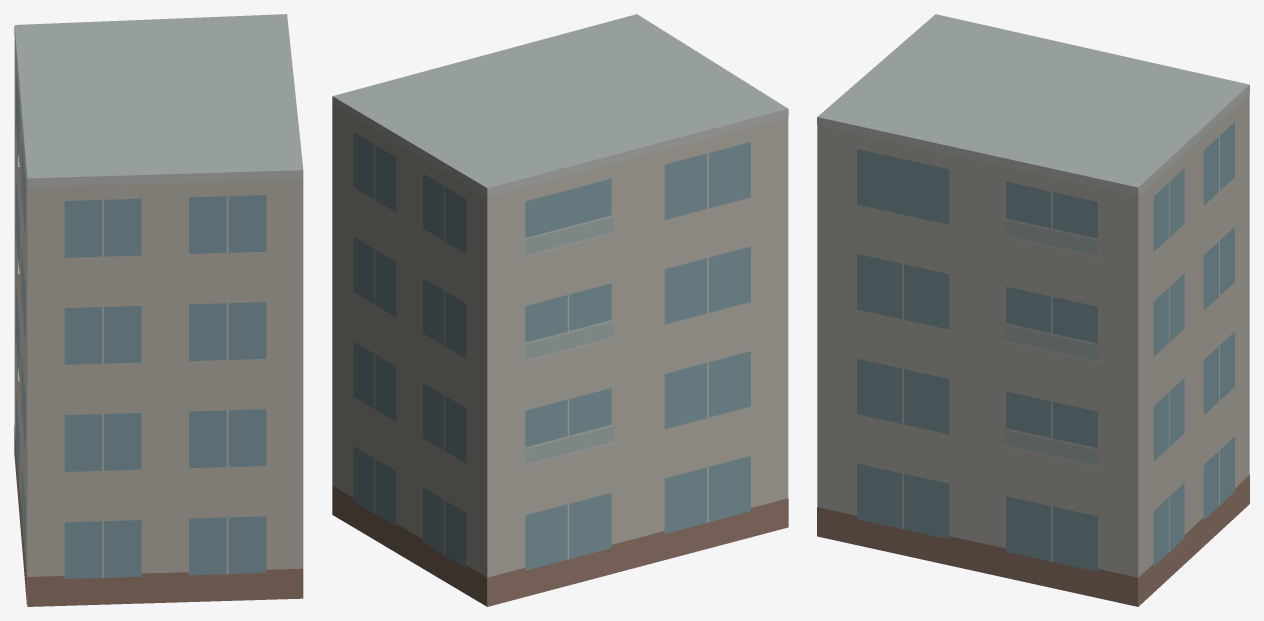
The model's file is survey-upis-32799399.glb.
3 views of the same model, side by side, from view 1: azimuth 30°, elevation 25°; view 2: azimuth 150°, elevation 25°; view 3: azimuth 270°, elevation 25° (orthographic). The views are drawn at different scales.
Parts seen in each view (by area): view 1: survey-upis-32799399.tmp; view 2: survey-upis-32799399.tmp; view 3: survey-upis-32799399.tmp.
Boxes of the visible parts, x1,y1,x2,y2 form: survey-upis-32799399.tmp: (14, 14, 303, 606); survey-upis-32799399.tmp: (332, 14, 788, 606); survey-upis-32799399.tmp: (817, 14, 1249, 606).
Size of the model in its own units: 10.79 by 12.15 by 11.37.
